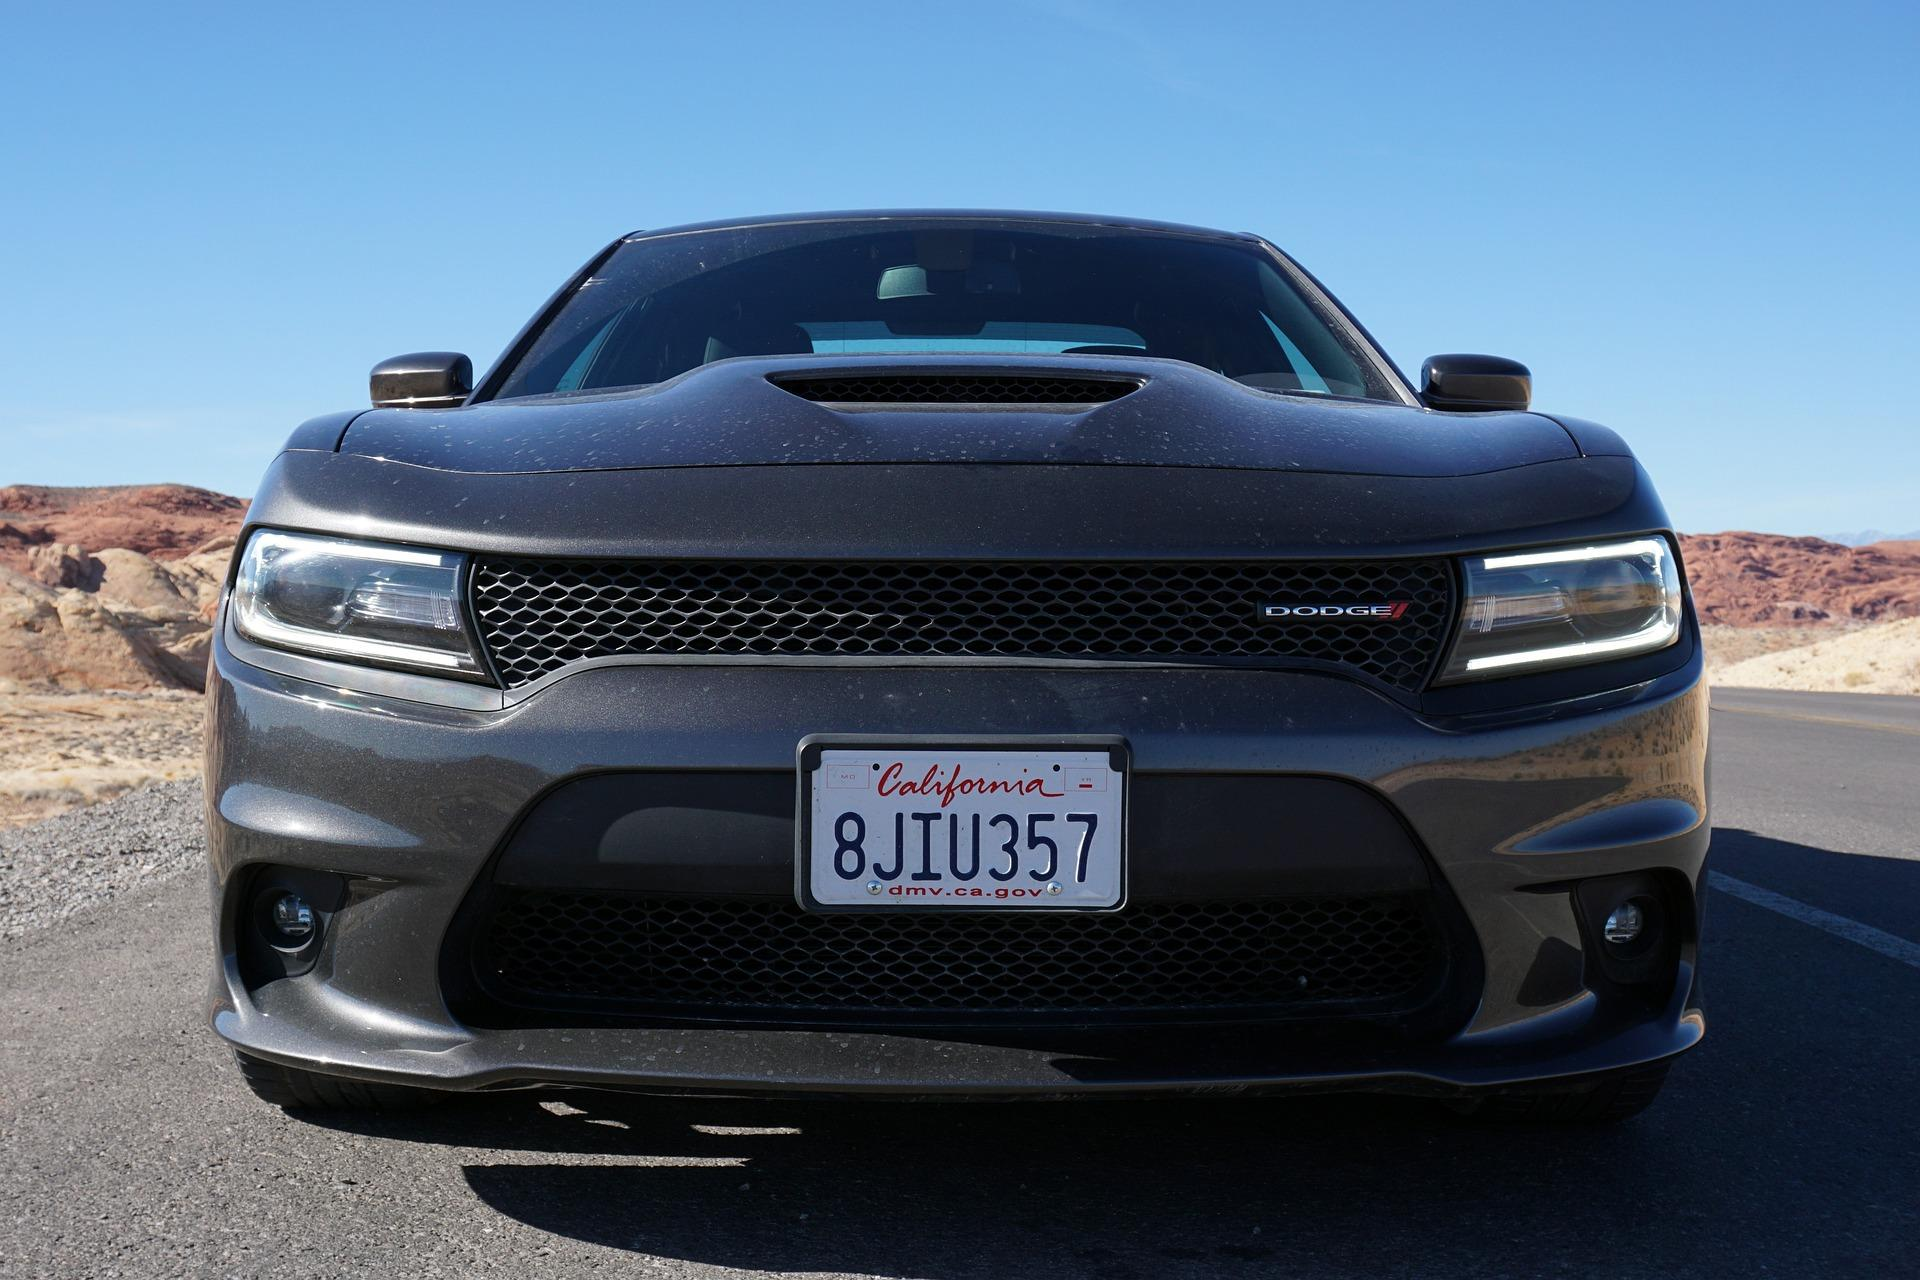dodge: (1237, 580, 1433, 644)
